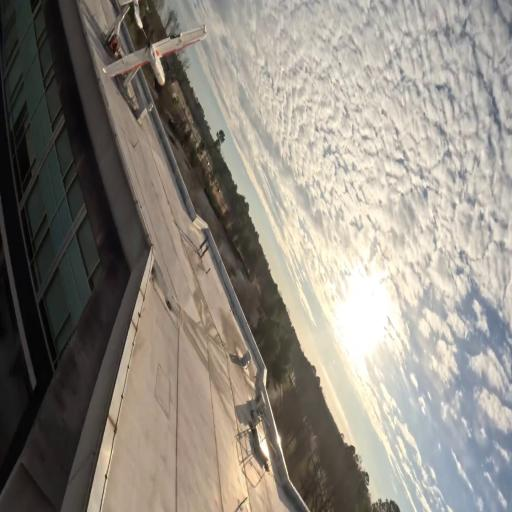uav: (93, 0, 209, 91)
